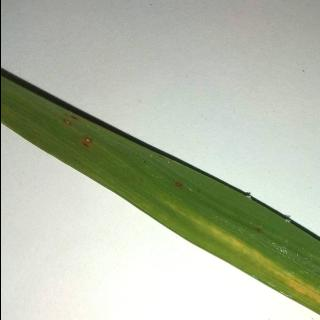Blast: (52, 110, 100, 152)
